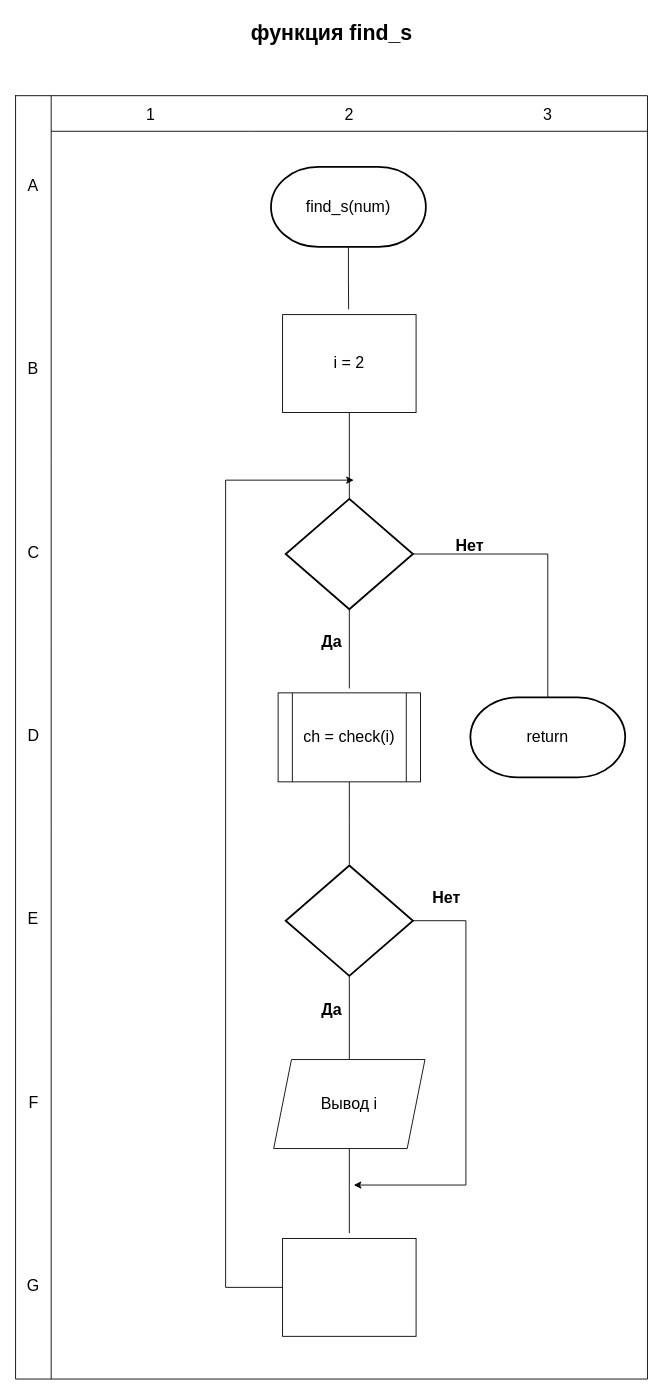
The diagram is 663 pixels wide and 1395 high, and some of its shapes have lost their labels. Each missing label, with the centre of its shape:
ch == 1: point (348, 920)
i < num: point (348, 554)
i++: point (349, 1287)
